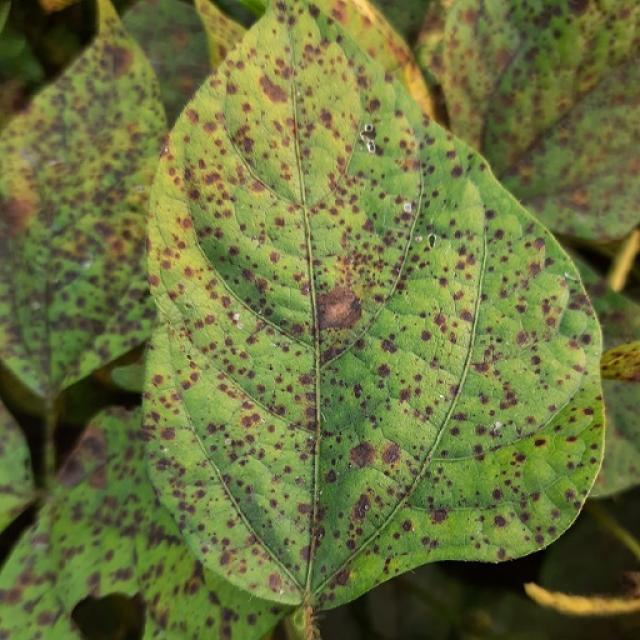Anthracnose: (118, 0, 223, 112), (542, 93, 637, 207), (225, 80, 308, 202), (303, 1, 410, 66), (45, 201, 110, 275), (369, 394, 440, 461), (193, 1, 252, 75), (524, 581, 640, 617), (306, 285, 382, 337), (537, 13, 589, 82), (72, 591, 147, 636), (313, 279, 366, 333), (520, 3, 571, 48), (342, 549, 392, 593), (598, 341, 639, 382), (1, 188, 35, 233), (319, 337, 360, 368), (292, 595, 319, 634), (259, 72, 289, 104), (104, 43, 132, 75), (349, 492, 373, 528), (348, 441, 377, 469), (617, 571, 639, 596), (381, 443, 402, 465), (359, 124, 375, 151), (240, 413, 260, 430), (154, 455, 172, 471), (158, 426, 176, 441), (268, 573, 282, 592), (432, 508, 448, 523), (376, 363, 391, 379), (324, 469, 338, 484), (492, 514, 507, 528), (367, 97, 381, 112), (159, 141, 170, 159), (151, 373, 165, 387), (490, 421, 503, 436), (426, 233, 437, 249), (420, 330, 432, 342), (533, 438, 547, 448), (402, 520, 413, 532), (492, 488, 503, 500), (496, 548, 507, 560), (313, 527, 323, 540), (30, 300, 41, 310), (403, 202, 412, 212), (234, 319, 243, 329), (183, 302, 194, 310), (364, 123, 373, 132), (302, 285, 310, 295), (224, 437, 232, 446)
Blackgram: (145, 0, 604, 612)
